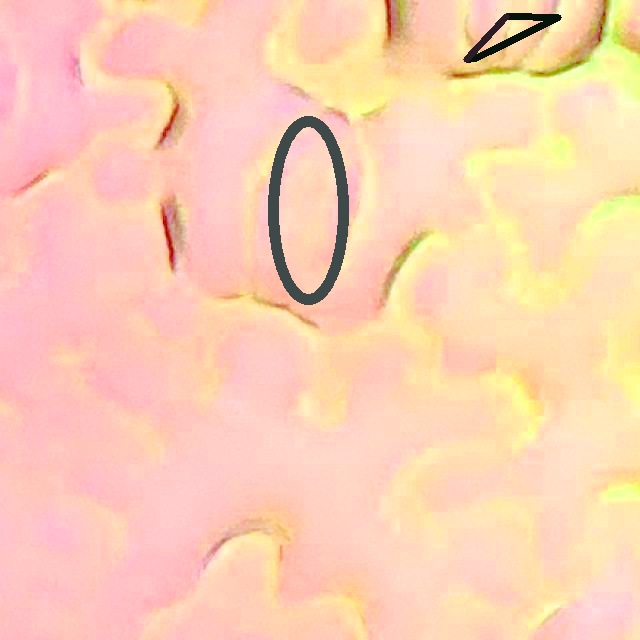close: (267, 115, 349, 305), (464, 13, 561, 61)
